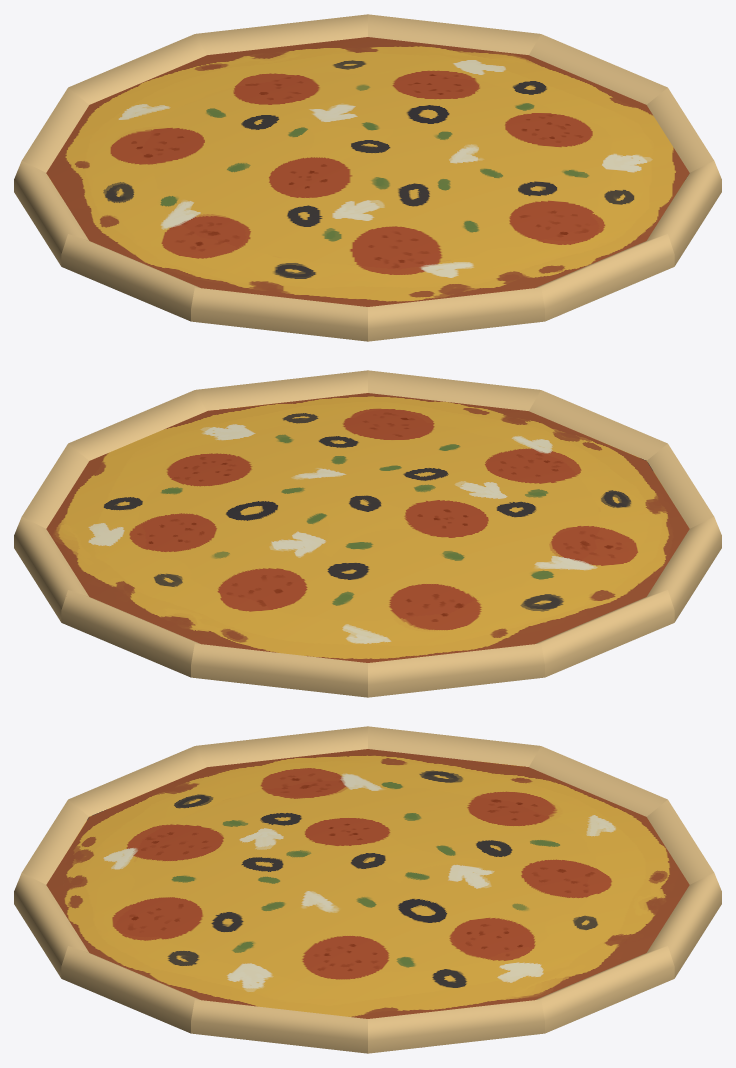
The model's file is pizza.fbx.
The picture shows the model from 3 angles, top to bottom: view 1: azimuth 30°, elevation 25°; view 2: azimuth 150°, elevation 25°; view 3: azimuth 270°, elevation 25°; orthographic projection.
Visible parts, largest first — view 1: pizza; view 2: pizza; view 3: pizza.
Boxes of the visible parts, box(x1,y1,x2,y2) form: pizza: box(14, 14, 721, 341); pizza: box(14, 370, 721, 697); pizza: box(14, 726, 721, 1053).
Bounding box in the file's own units: 58.21 × 4.17 × 58.21.
Materials: 1 (1 with a texture image).
